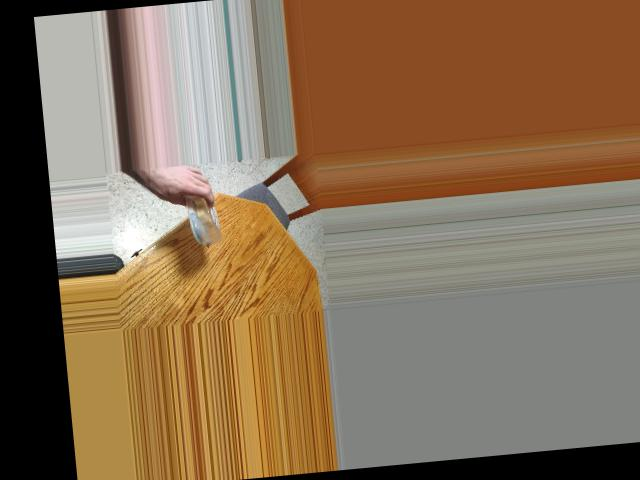cheese: (159, 176, 233, 249)
